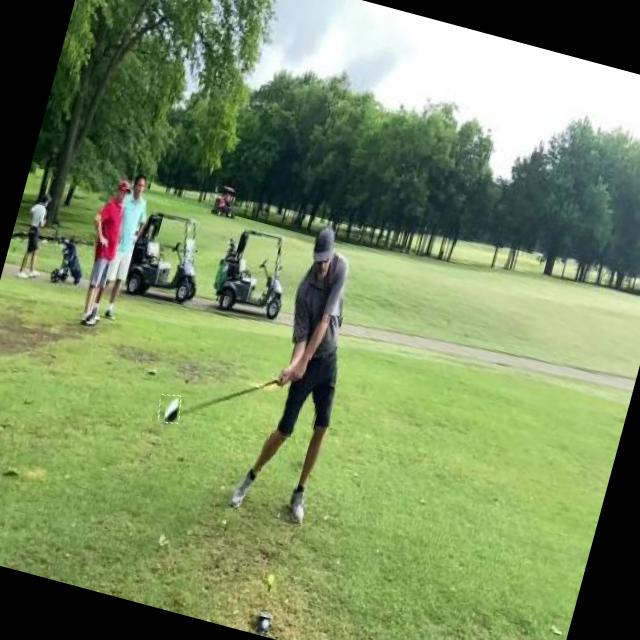club head: (155, 392, 184, 426)
